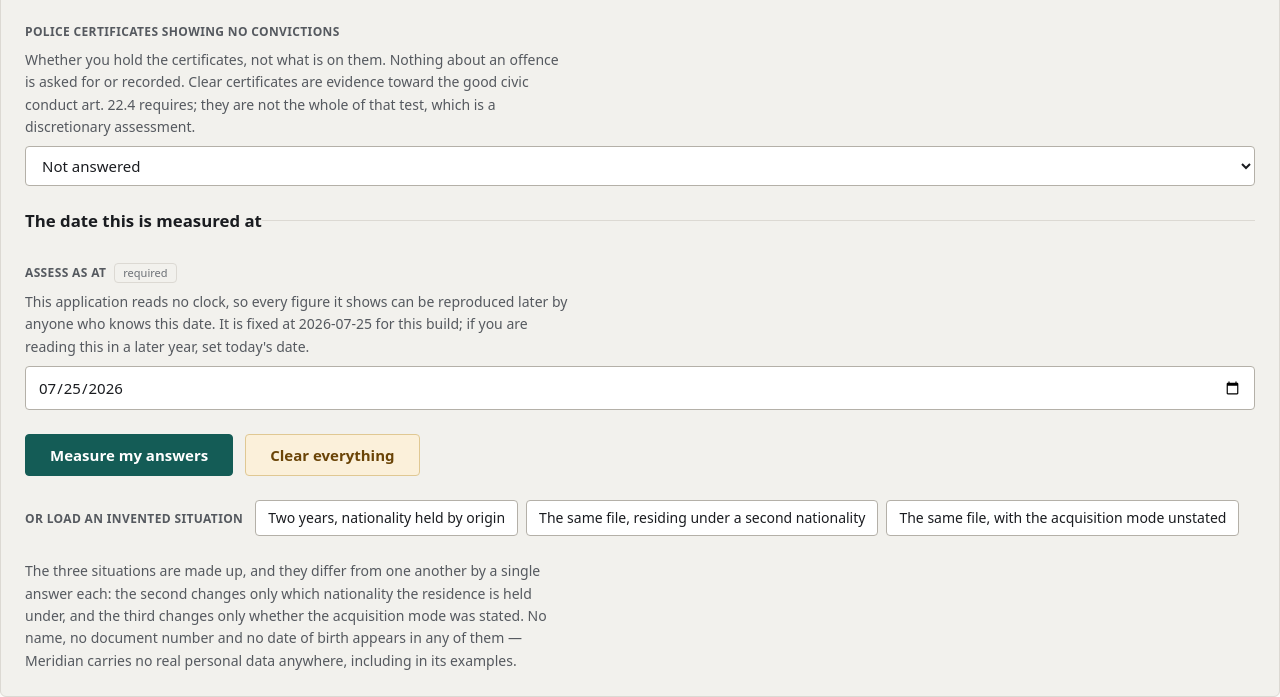
Test: the three cases, on screen › renders an unstated acquisition mode as its own state, never as a favourable guess
(page scrolled)
Click the button "The same file, with the acquisition mode unstated" at (1063, 518), box [886,500,1240,536]
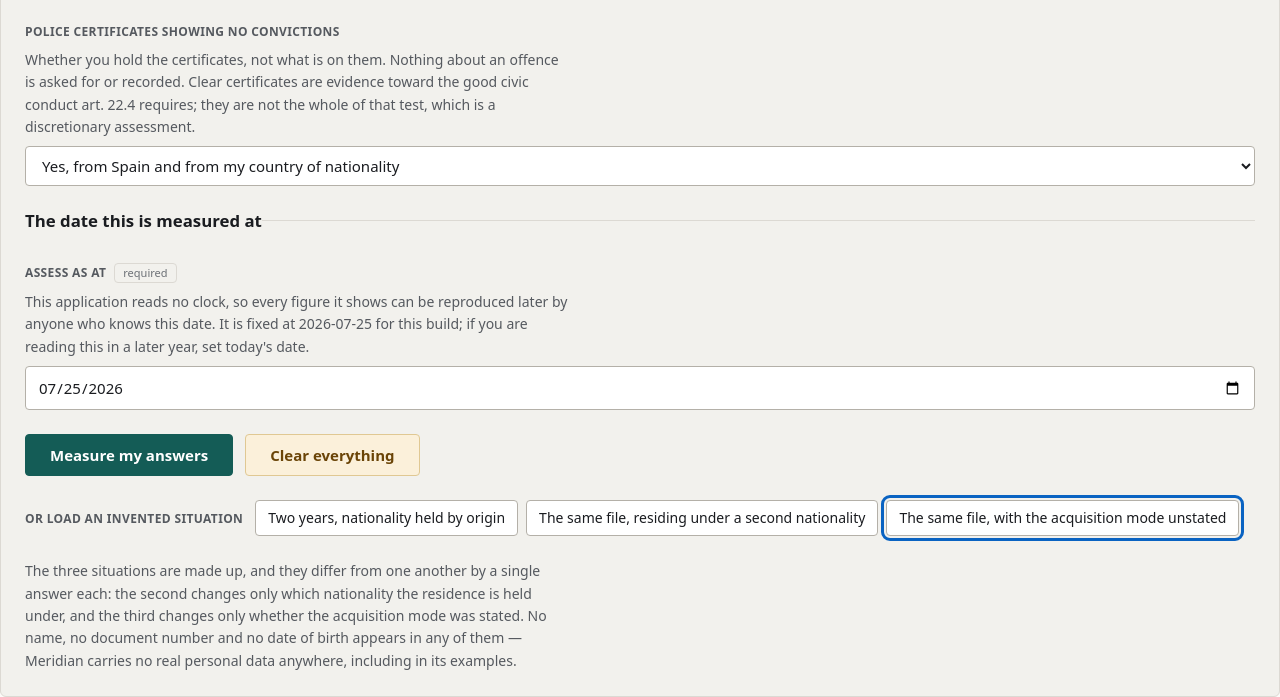
Click the button "Measure my answers" at (129, 455), box [25,434,233,476]
(page scrolled)
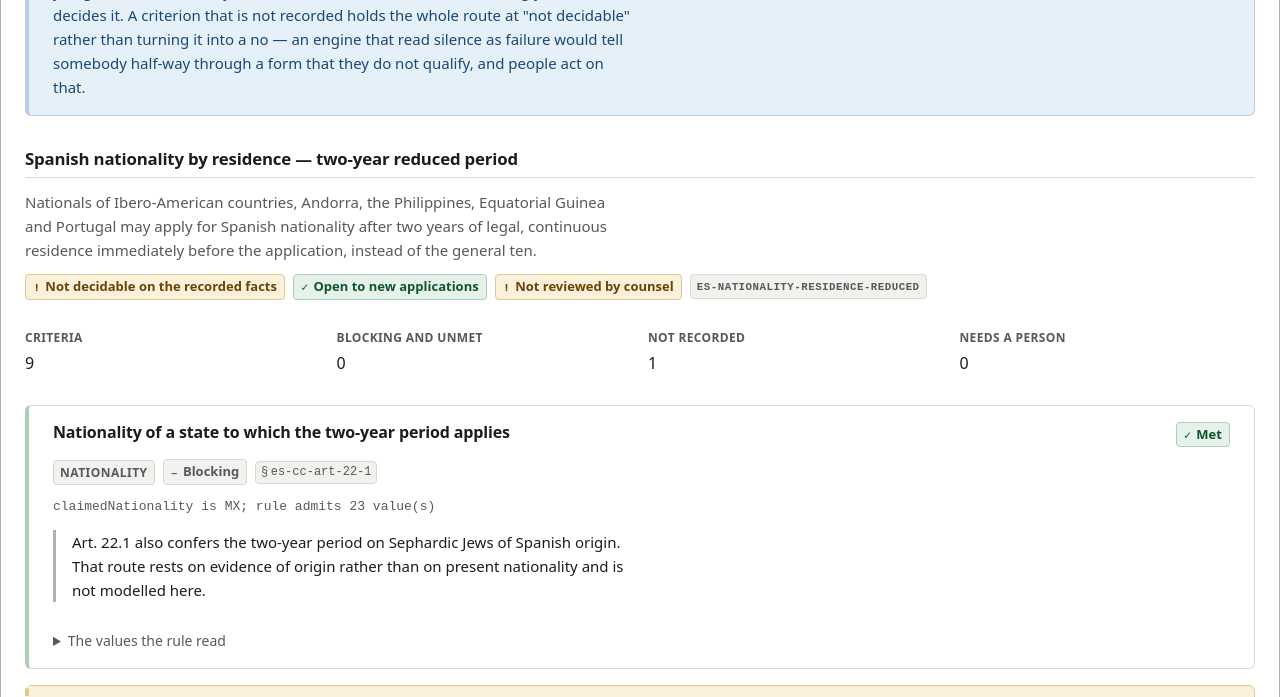
Expected: the text "Not decidable on the recorded facts" is shown, [45,277,277,295]
Expected: the text "Not recorded" is shown, [648,329,745,346]
